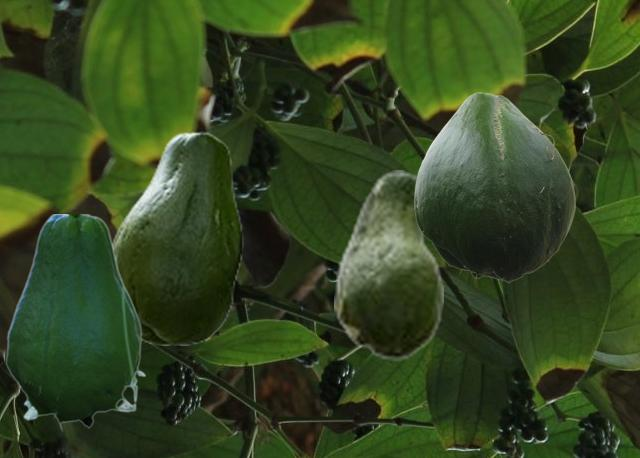sayote: (414, 92, 574, 282), (5, 214, 145, 431), (111, 131, 242, 344), (334, 170, 442, 360)
